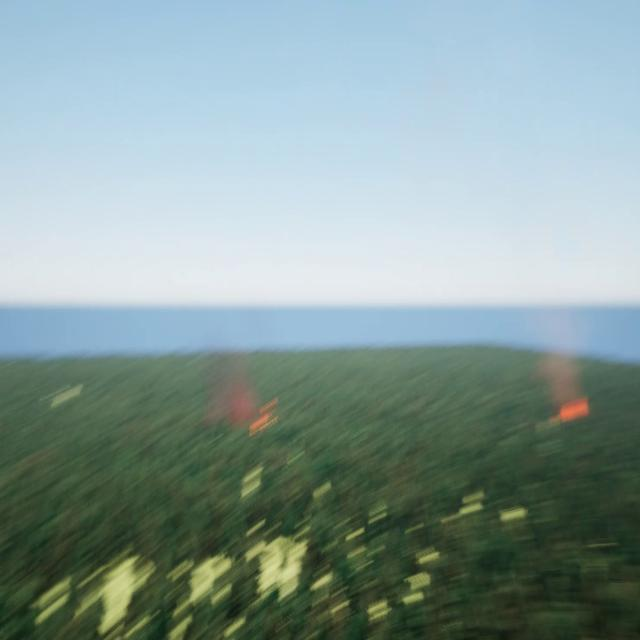fire: (551, 396, 595, 422), (249, 400, 280, 428)
smoke: (536, 328, 583, 402), (208, 358, 259, 421)
